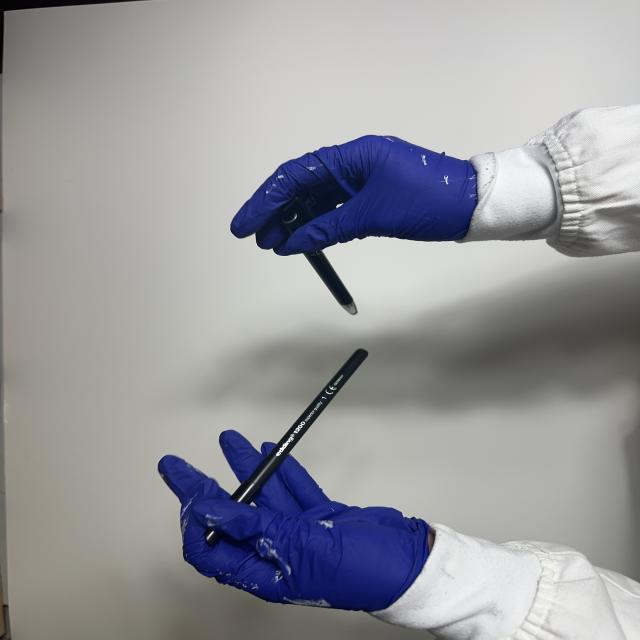gloves_contaminated: (158, 430, 433, 612), (231, 136, 478, 256)
